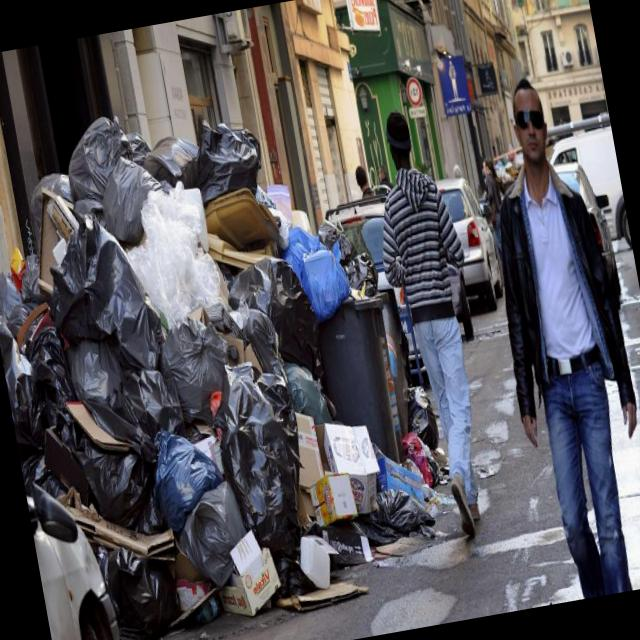garbage: (30, 73, 407, 640)
